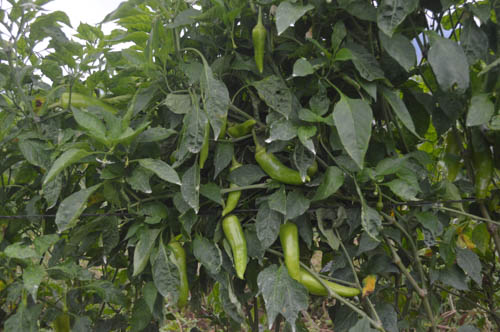ChiliPepper: (255, 146, 310, 187), (300, 271, 364, 302), (165, 239, 188, 310), (277, 222, 302, 284), (223, 216, 247, 280), (60, 92, 116, 114), (472, 145, 491, 198), (224, 164, 241, 221), (194, 123, 213, 167), (251, 23, 266, 72), (230, 115, 256, 139)
